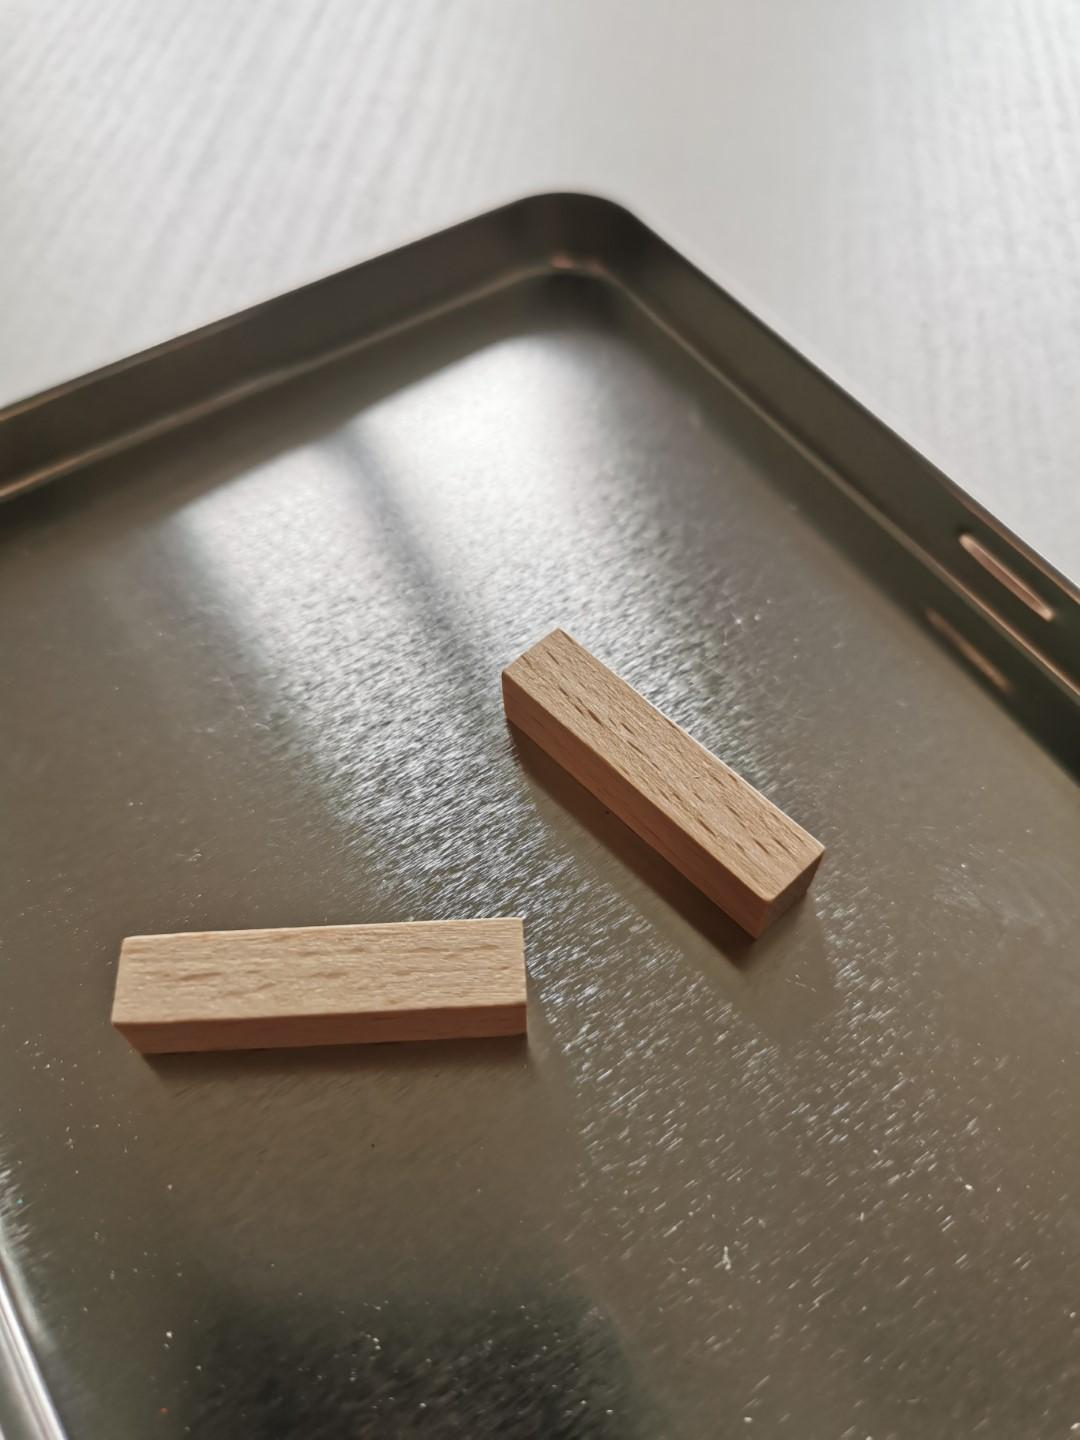jenga: (503, 629, 825, 939), (110, 920, 526, 1054)
